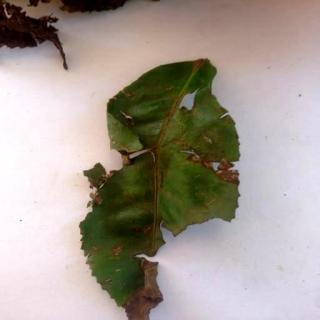Brown Blight: (80, 61, 243, 320)
